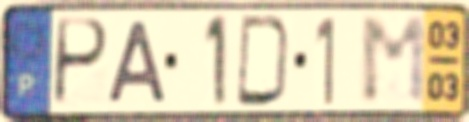1: (201, 12, 231, 111), (314, 14, 336, 107)
A: (105, 18, 170, 106)
D: (234, 13, 294, 110)
M: (357, 13, 431, 108)
P: (50, 15, 112, 110)
